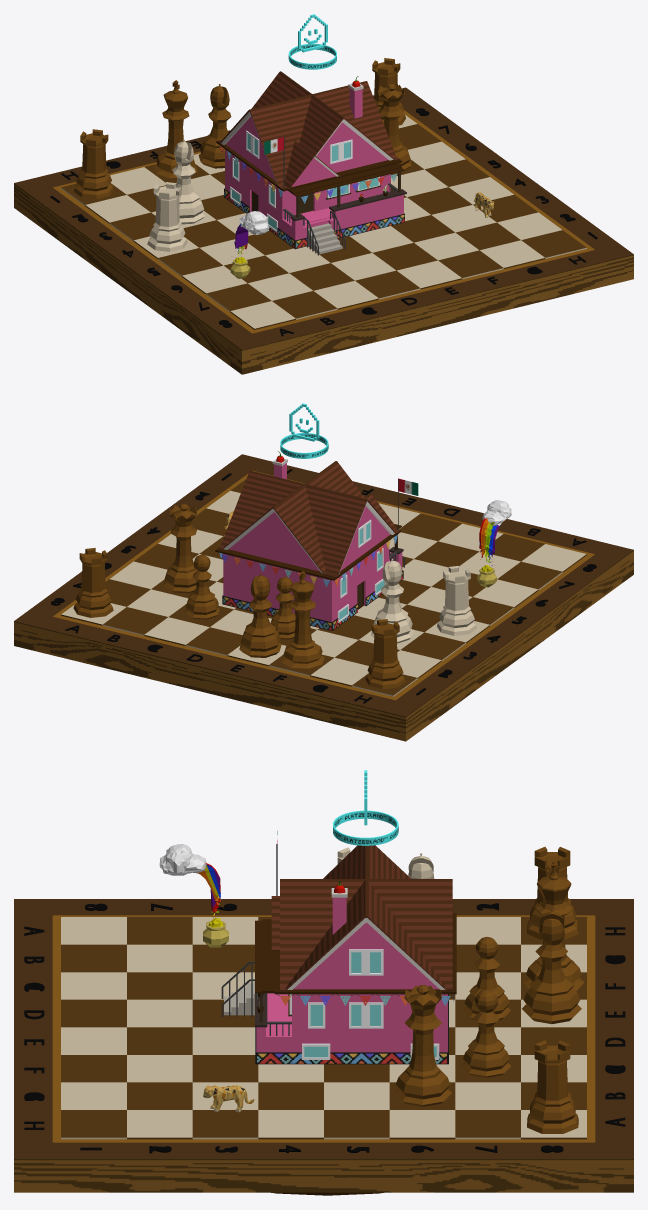
3 renders of one model, top to bottom at view 1: azimuth 30°, elevation 25°; view 2: azimuth 150°, elevation 25°; view 3: azimuth 270°, elevation 25°, orthographic. The views are drawn at different scales.
Visible parts, largest first — view 1: Cube.002, Cube.1005, OBJRANDOM_RAINBOW, TYPE_PREMIUM; view 2: Cube.002, Cube.1005, OBJRANDOM_RAINBOW, TYPE_PREMIUM; view 3: Cube.002, Cube.1005, OBJRANDOM_RAINBOW, TYPE_PREMIUM, ANIMAL_JAGUAR.
Boxes of the visible parts, <box> form: Cube.002: <box>14,58,633,374</box>; Cube.1005: <box>216,71,406,255</box>; OBJRANDOM_RAINBOW: <box>230,211,269,278</box>; TYPE_PREMIUM: <box>288,14,336,69</box>; Cube.002: <box>14,454,633,741</box>; Cube.1005: <box>215,451,418,630</box>; OBJRANDOM_RAINBOW: <box>477,500,511,587</box>; TYPE_PREMIUM: <box>280,403,328,458</box>; Cube.002: <box>14,847,633,1192</box>; Cube.1005: <box>221,831,456,1064</box>; OBJRANDOM_RAINBOW: <box>159,844,228,947</box>; TYPE_PREMIUM: <box>333,770,398,845</box>; ANIMAL_JAGUAR: <box>203,1085,254,1112</box>.
Bounding box in the file's own units: 3981 × 2244 × 4012.
72 materials, 5 textured.
